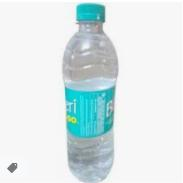plastic_bottle: (61, 3, 121, 182)
